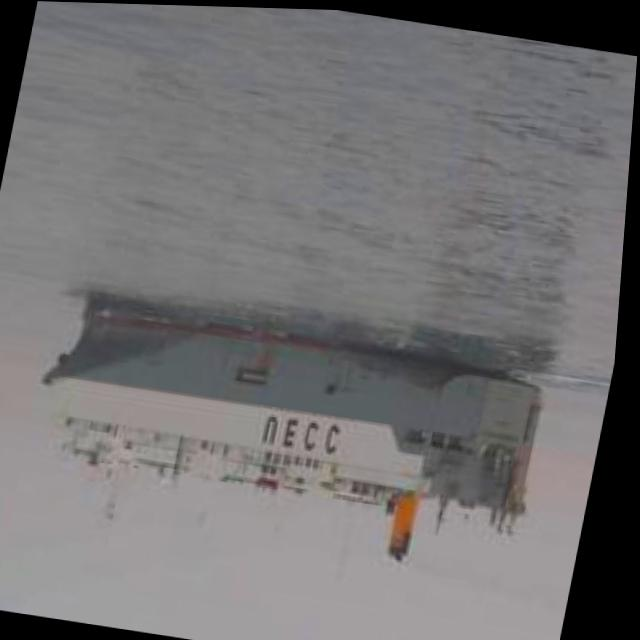ship2: (48, 292, 550, 555)
